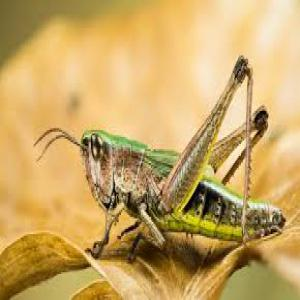locust: (67, 81, 279, 239)
